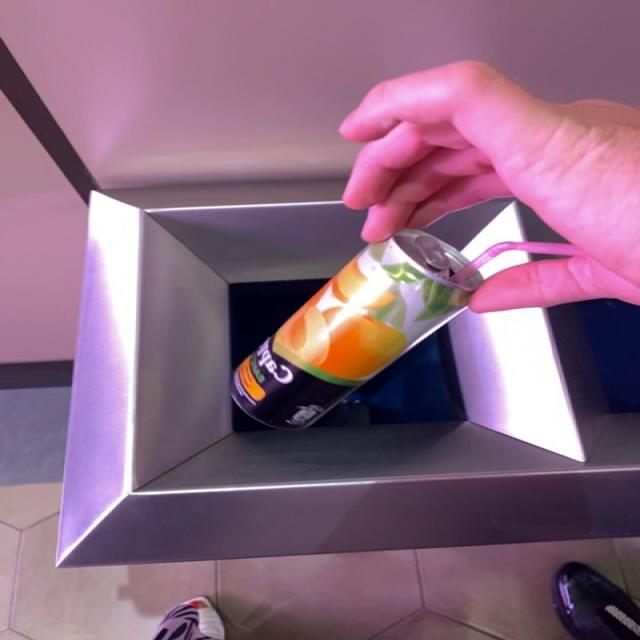bin: (56, 181, 639, 568)
metal: (231, 230, 483, 430)
